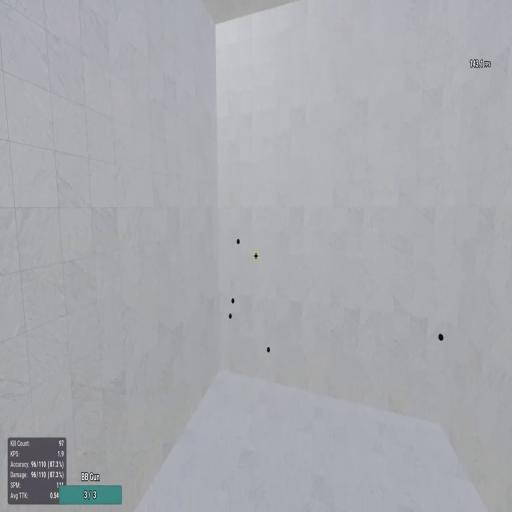Crosshair: (254, 252, 258, 261)
Target: (438, 332, 444, 342), (228, 312, 232, 320), (231, 297, 235, 304), (237, 238, 240, 244), (267, 346, 270, 352)
